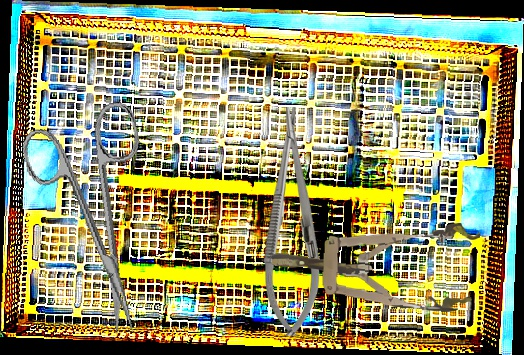Iris Scissors: (17, 98, 178, 346)
Needle Holder: (263, 107, 321, 336)
Speculum: (269, 213, 481, 314)
